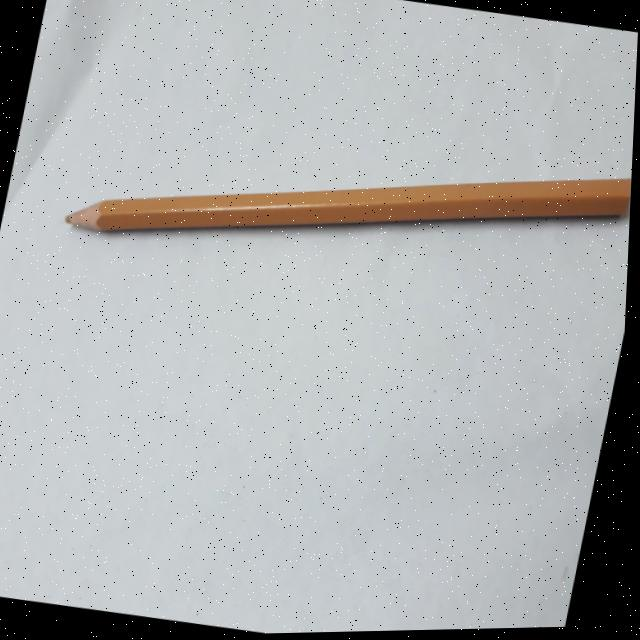pencil: (49, 73, 637, 335)
